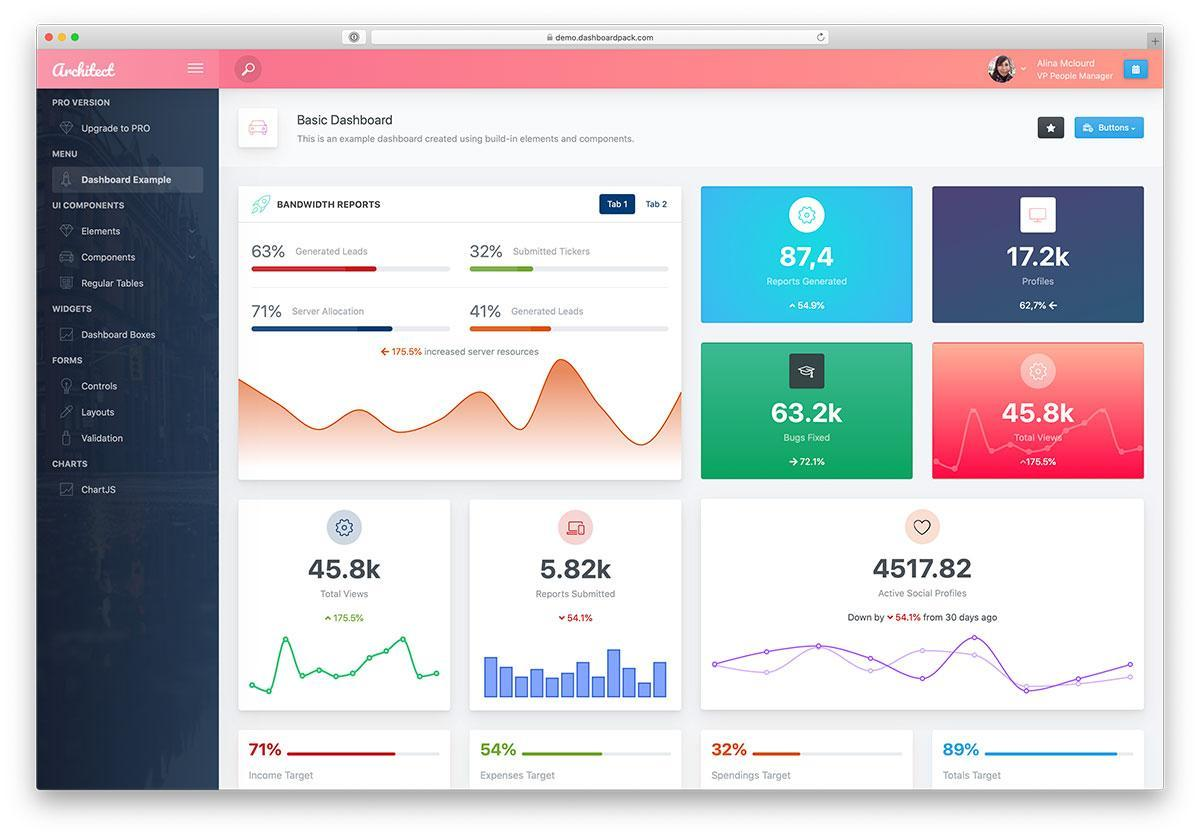button: (600, 195, 637, 215)
dropdown: (1076, 118, 1145, 140)
icon: (236, 107, 281, 151), (234, 54, 265, 86), (1037, 116, 1067, 141), (1124, 59, 1150, 82), (1029, 362, 1050, 384), (335, 517, 355, 540), (1026, 206, 1051, 224), (799, 206, 819, 226), (567, 519, 588, 538), (57, 248, 78, 267), (59, 169, 77, 191), (914, 519, 934, 538), (58, 222, 78, 240), (58, 403, 77, 421), (58, 326, 77, 344), (57, 275, 76, 293), (59, 482, 77, 500), (59, 377, 76, 395), (799, 364, 817, 381), (60, 120, 76, 139), (60, 430, 75, 449)
label: (1037, 57, 1115, 83), (80, 173, 173, 189), (81, 124, 154, 136), (82, 277, 149, 290), (82, 332, 158, 343), (81, 252, 139, 266), (79, 433, 126, 446), (81, 381, 121, 394), (80, 484, 120, 497), (82, 226, 124, 238), (81, 407, 120, 419)
